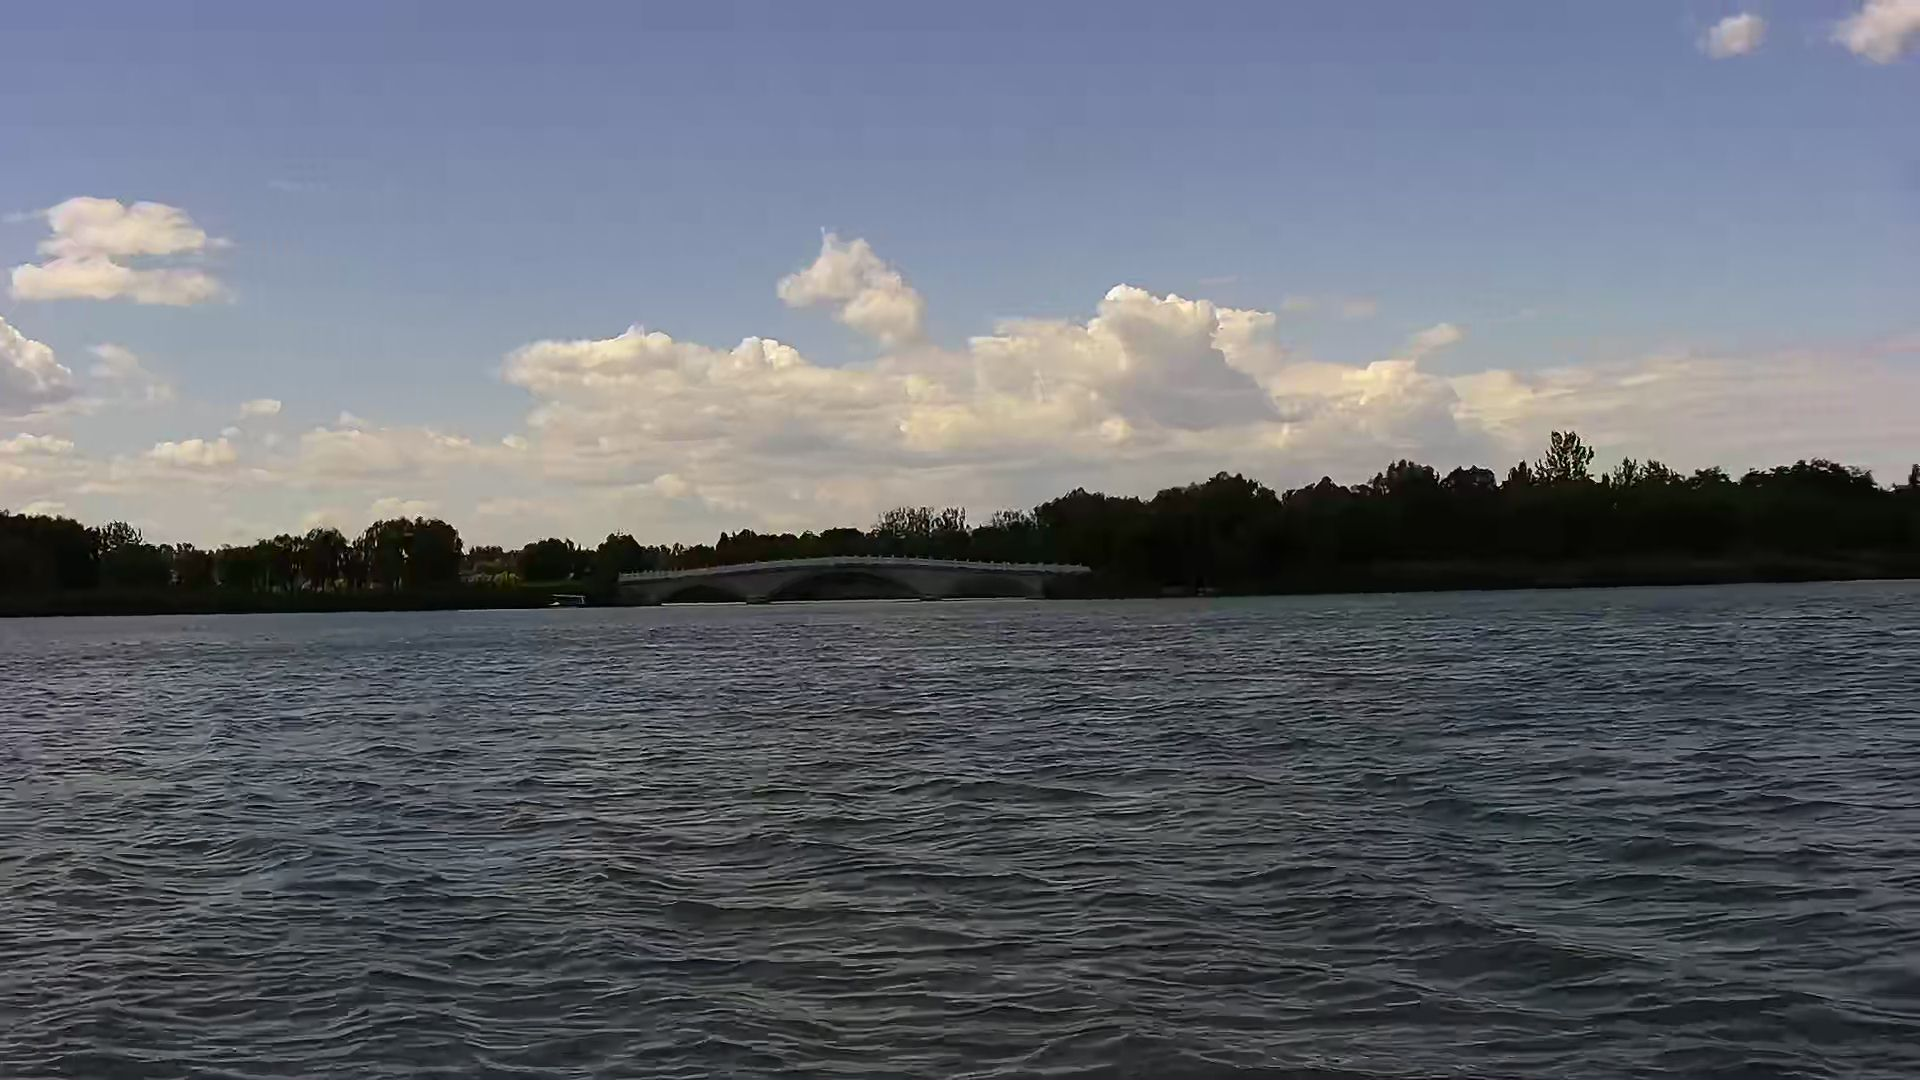bridge: (618, 553, 1091, 607)
